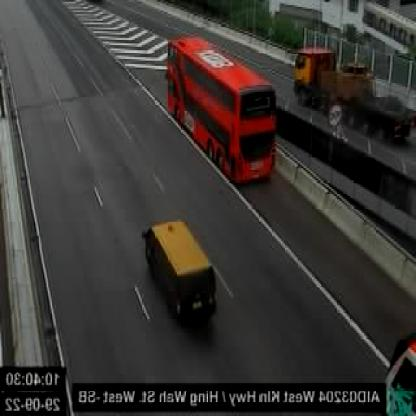Bus: (166, 24, 282, 186)
Car: (139, 212, 221, 324)
Truck: (287, 43, 416, 140)
